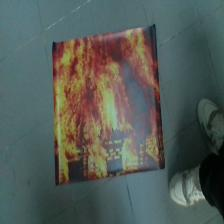fire-poster: (52, 26, 164, 184)
